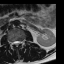CCS_normal: (15, 38, 18, 48)
LFS_normal: (20, 39, 22, 45)
LLS_normal: (18, 38, 20, 46)
RFS_normal: (11, 39, 13, 46)
RLS_normal: (13, 39, 15, 46)
